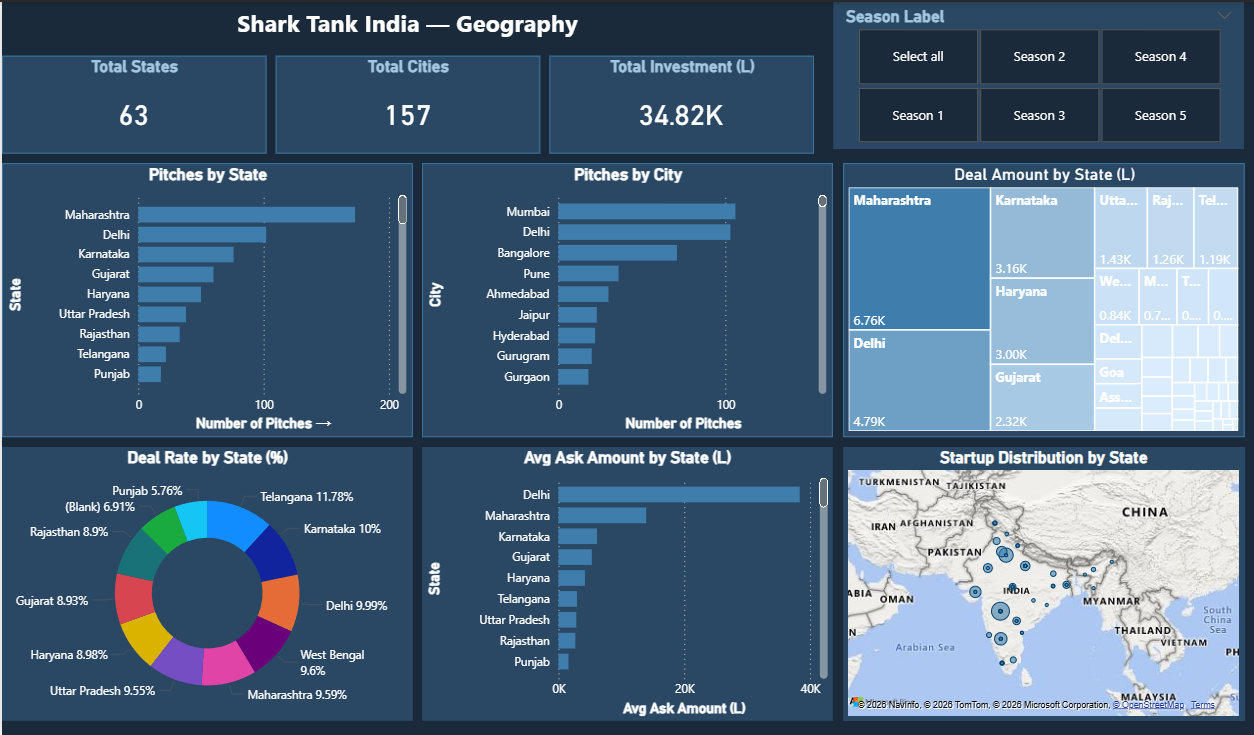

This screenshot's page, from the dashboard's own definition file:
{"tool":"powerbi","page":{"name":"Geography","canvas":[1280,750],"ordinal":2},"visuals":[{"type":"card","title":"Total States","fields":{"Values":["Count(shark_tank_clean.Pitchers State)"]},"box":[0,55,270,100],"z":0},{"type":"card","title":"Total Cities","fields":{"Values":["Count(shark_tank_clean.Pitchers City)"]},"box":[280,55,270,100],"z":1000},{"type":"card","title":"Total Investment (L)","fields":{"Values":["Sum(shark_tank_clean.Total Deal Amount)"]},"box":[560,55,270,100],"z":2000},{"type":"slicer","fields":{"Values":["shark_tank_clean.Season Label"]},"box":[850,0,420,150],"z":3000},{"type":"clusteredBarChart","title":"Pitches by State","fields":{"Y":["CountNonNull(shark_tank_clean.Startup Name)"],"Category":["shark_tank_clean.Pitchers State"]},"box":[0,165,420,280],"z":4000},{"type":"clusteredBarChart","title":"Pitches by City","fields":{"Category":["shark_tank_clean.Pitchers City"],"Y":["CountNonNull(shark_tank_clean.Startup Name)"]},"box":[430,165,420,280],"z":5000},{"type":"treemap","title":"Deal Amount by State (L)","fields":{"Values":["Sum(shark_tank_clean.Total Deal Amount)"],"Group":["shark_tank_clean.Pitchers State"]},"box":[860,165,410,280],"z":6000},{"type":"donutChart","title":"Deal Rate by State (%)","fields":{"Category":["shark_tank_clean.Pitchers State"],"Y":["Shark Deals.Deal Rate %"]},"box":[0,455,420,280],"z":7000},{"type":"clusteredBarChart","title":"Avg Ask Amount by State (L)","fields":{"Category":["shark_tank_clean.Pitchers State"],"Y":["Sum(shark_tank_clean.Original Ask Amount)"]},"box":[430,455,420,280],"z":8000},{"type":"map","title":"Startup Distribution by State","fields":{"Category":["shark_tank_clean.Pitchers State"],"Size":["CountNonNull(shark_tank_clean.Startup Name)"]},"box":[860,455,410,280],"z":9000},{"type":"textbox","box":[0,0,829.5,49.8],"z":10000}]}

Visuals, with their boxes in screenshot pixels (x1, y1, x2, y2), scaled from the page's 1280x750 canvas onto the 1254x735 screenshot:
"Total States" card: rect(0, 54, 265, 152)
"Total Cities" card: rect(274, 54, 539, 152)
"Total Investment (L)" card: rect(549, 54, 813, 152)
slicer - shark_tank_clean.Season Label: rect(833, 0, 1244, 147)
"Pitches by State" clusteredBarChart: rect(0, 162, 411, 436)
"Pitches by City" clusteredBarChart: rect(421, 162, 833, 436)
"Deal Amount by State (L)" treemap: rect(843, 162, 1244, 436)
"Deal Rate by State (%)" donutChart: rect(0, 446, 411, 720)
"Avg Ask Amount by State (L)" clusteredBarChart: rect(421, 446, 833, 720)
"Startup Distribution by State" map: rect(843, 446, 1244, 720)
textbox: rect(0, 0, 813, 49)
